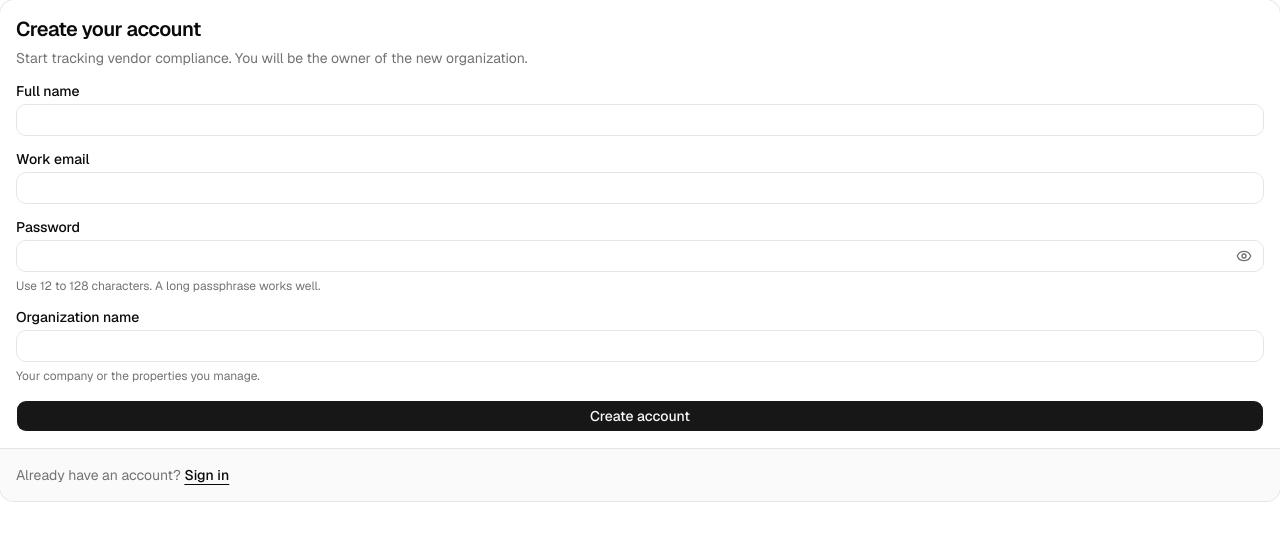
SignupForm › shows the password rule as help text and validation errors for a short password
Check: the text "Use 12 to 128 characters. A long passphrase works well." is shown, box [16,278,320,294]
Type "Sam Rivera" into the field labelled "Full name" at (640, 120), box [16,104,1264,136]
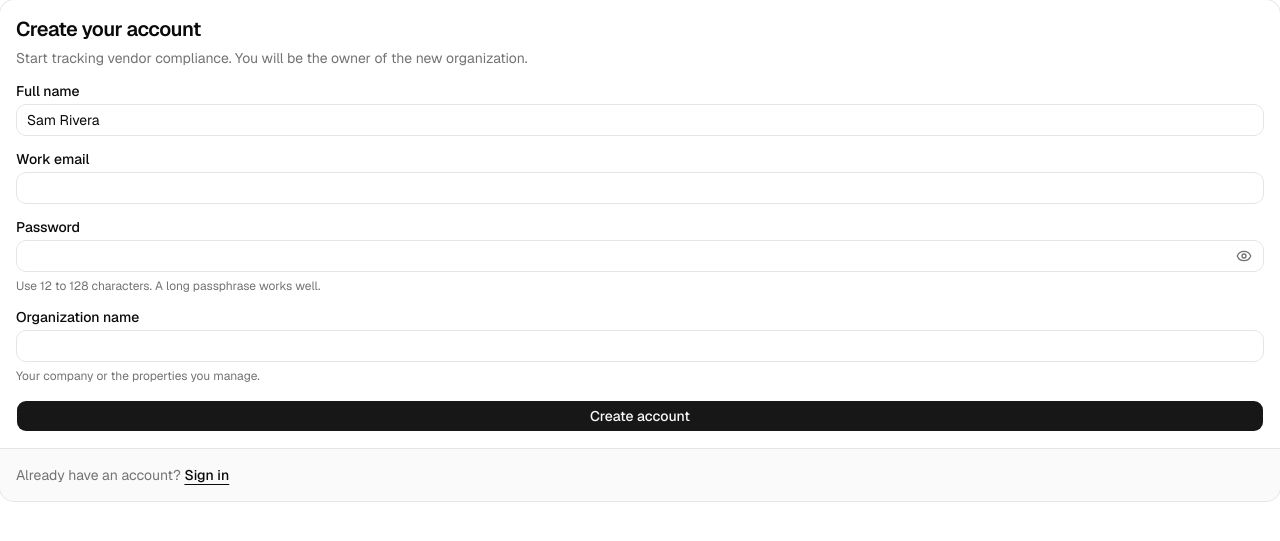
Type "sam@example.com" into the field labelled "Work email" at (640, 188), box [16,172,1264,204]
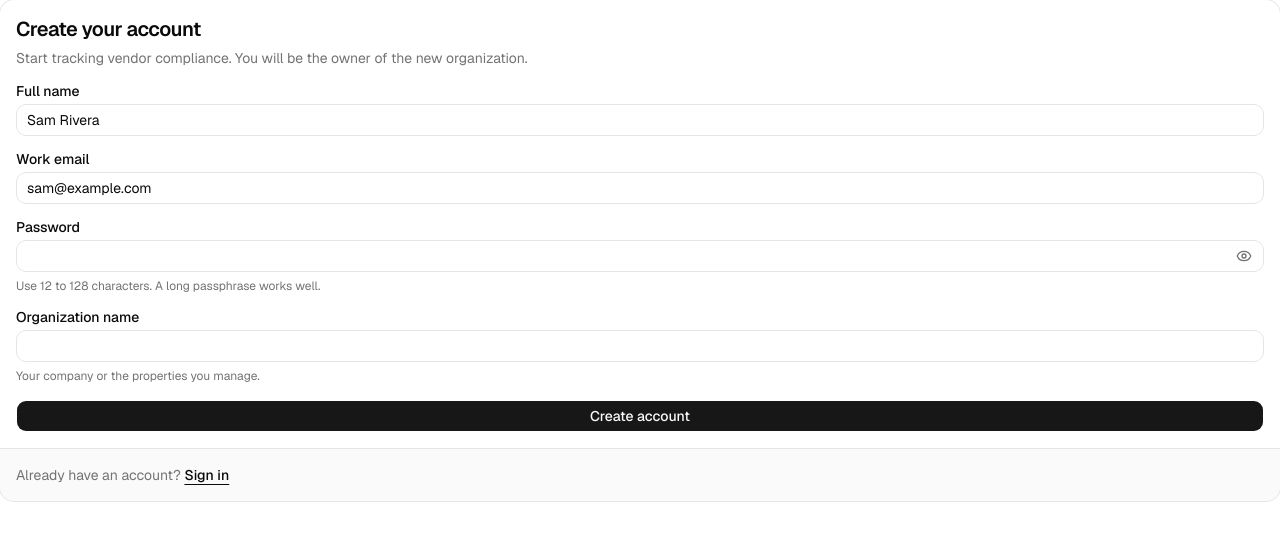
Type "short" into the password field labelled "Password" at (640, 256), box [16,240,1264,272]
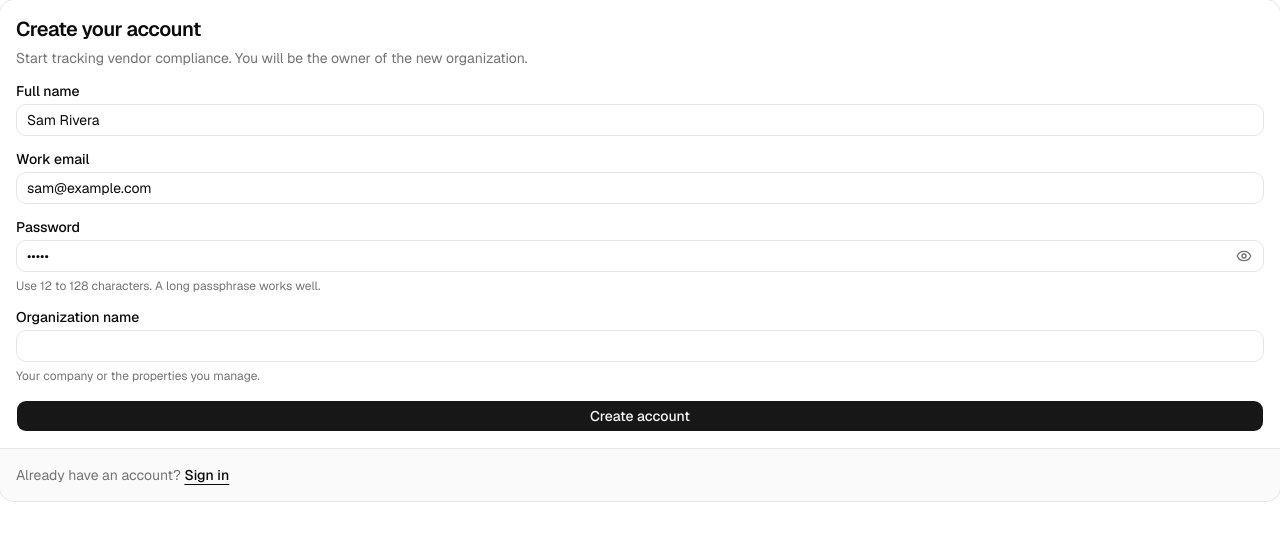
Type "Acme HOA" into the field labelled "Organization name" at (640, 346), box [16,330,1264,362]
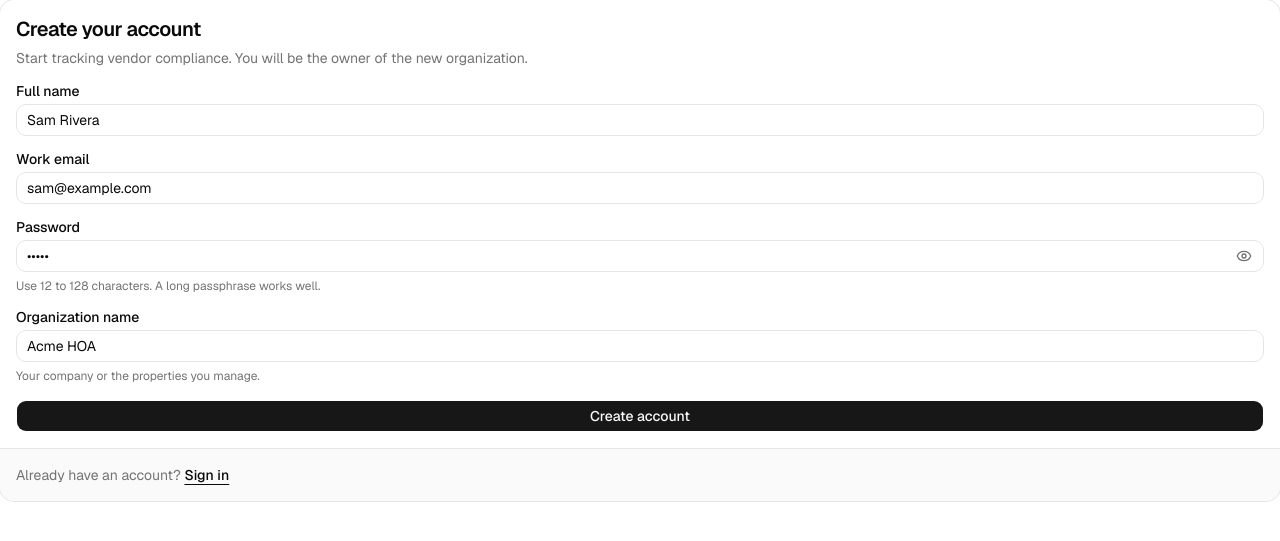
Click the button "Create account" at (640, 416), box [16,400,1264,432]
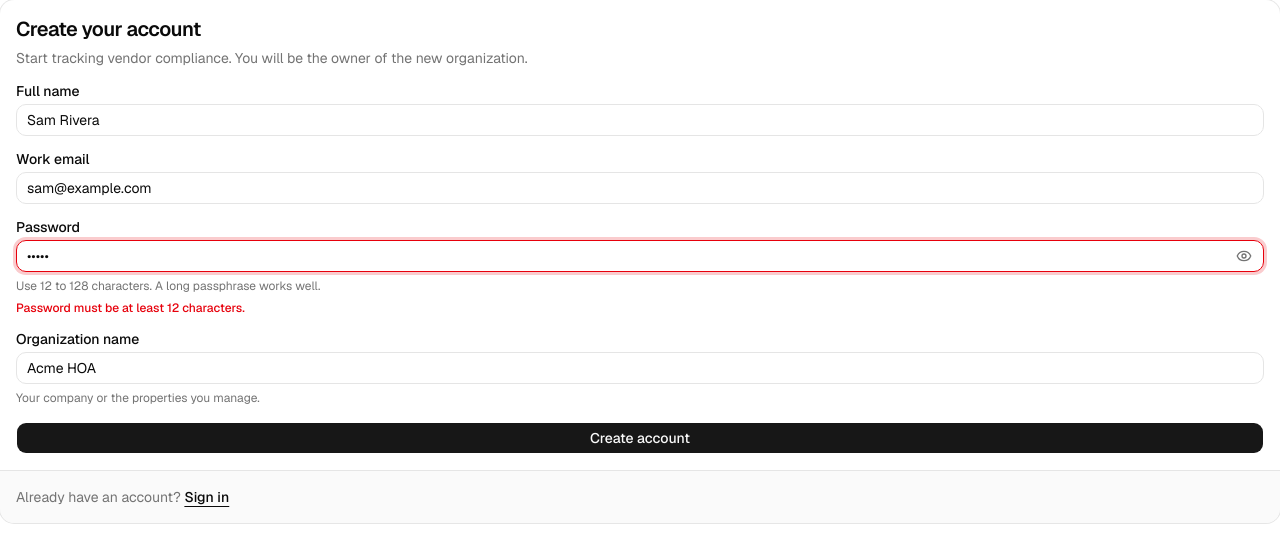
Check: the text "Password must be at least 12 characters." is shown, box [16,300,245,316]
